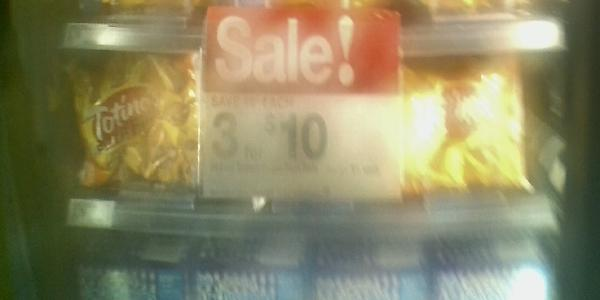icecream: (62, 49, 202, 201), (385, 55, 538, 194)
